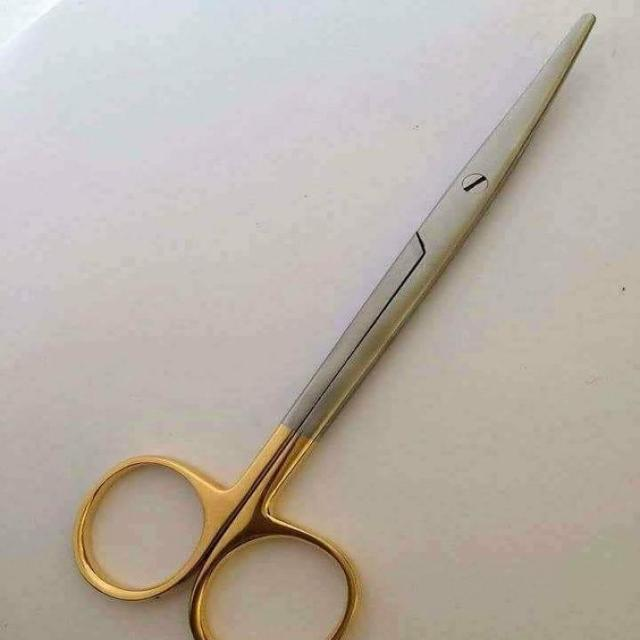scissor: (71, 1, 607, 636)
